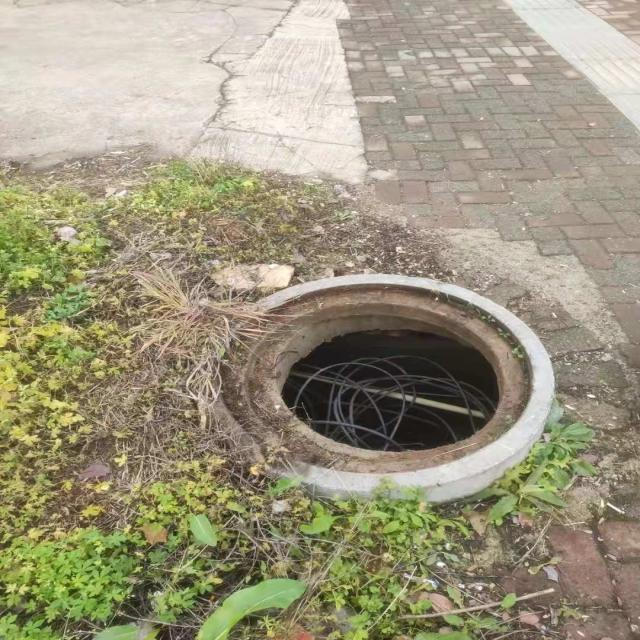Faulty: (198, 274, 555, 504)
